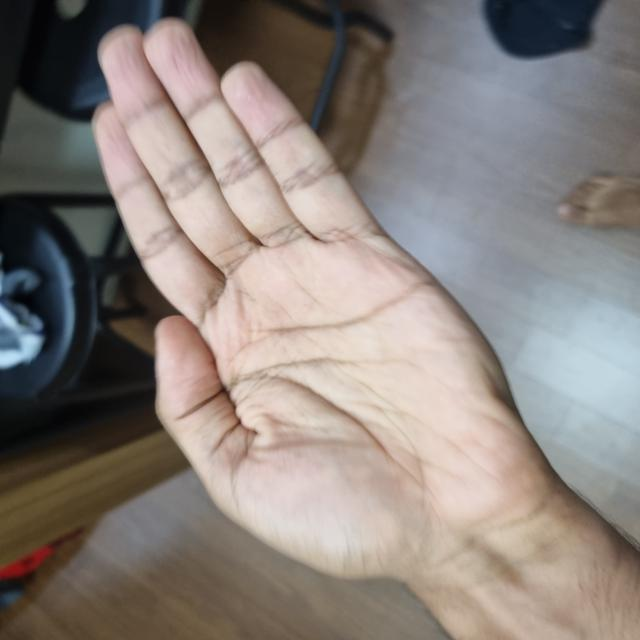Paper: (63, 92, 621, 525)
